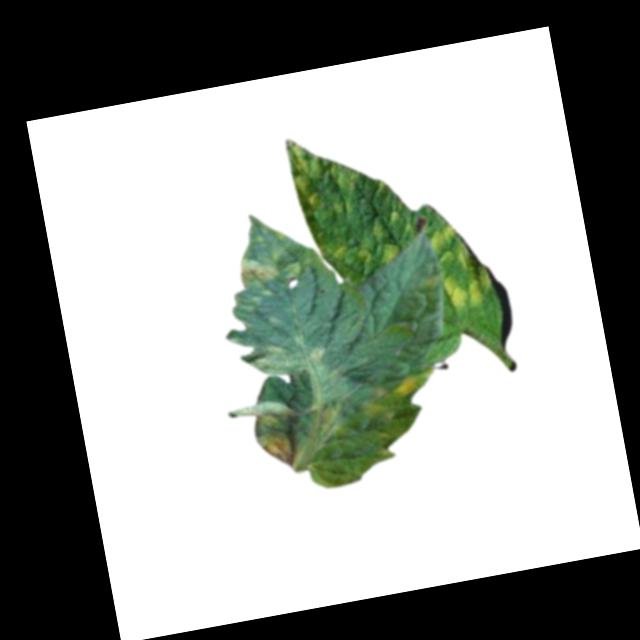Leaf_Mold: (282, 125, 368, 223), (428, 217, 499, 312), (238, 330, 329, 383), (257, 421, 305, 470), (236, 246, 284, 290), (388, 362, 441, 400), (372, 232, 405, 266)
